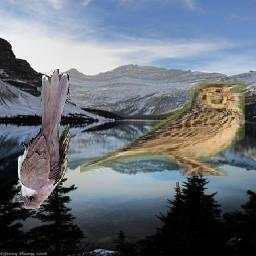Cuckoo: (12, 69, 70, 209)
Sparrow: (81, 82, 246, 177)
